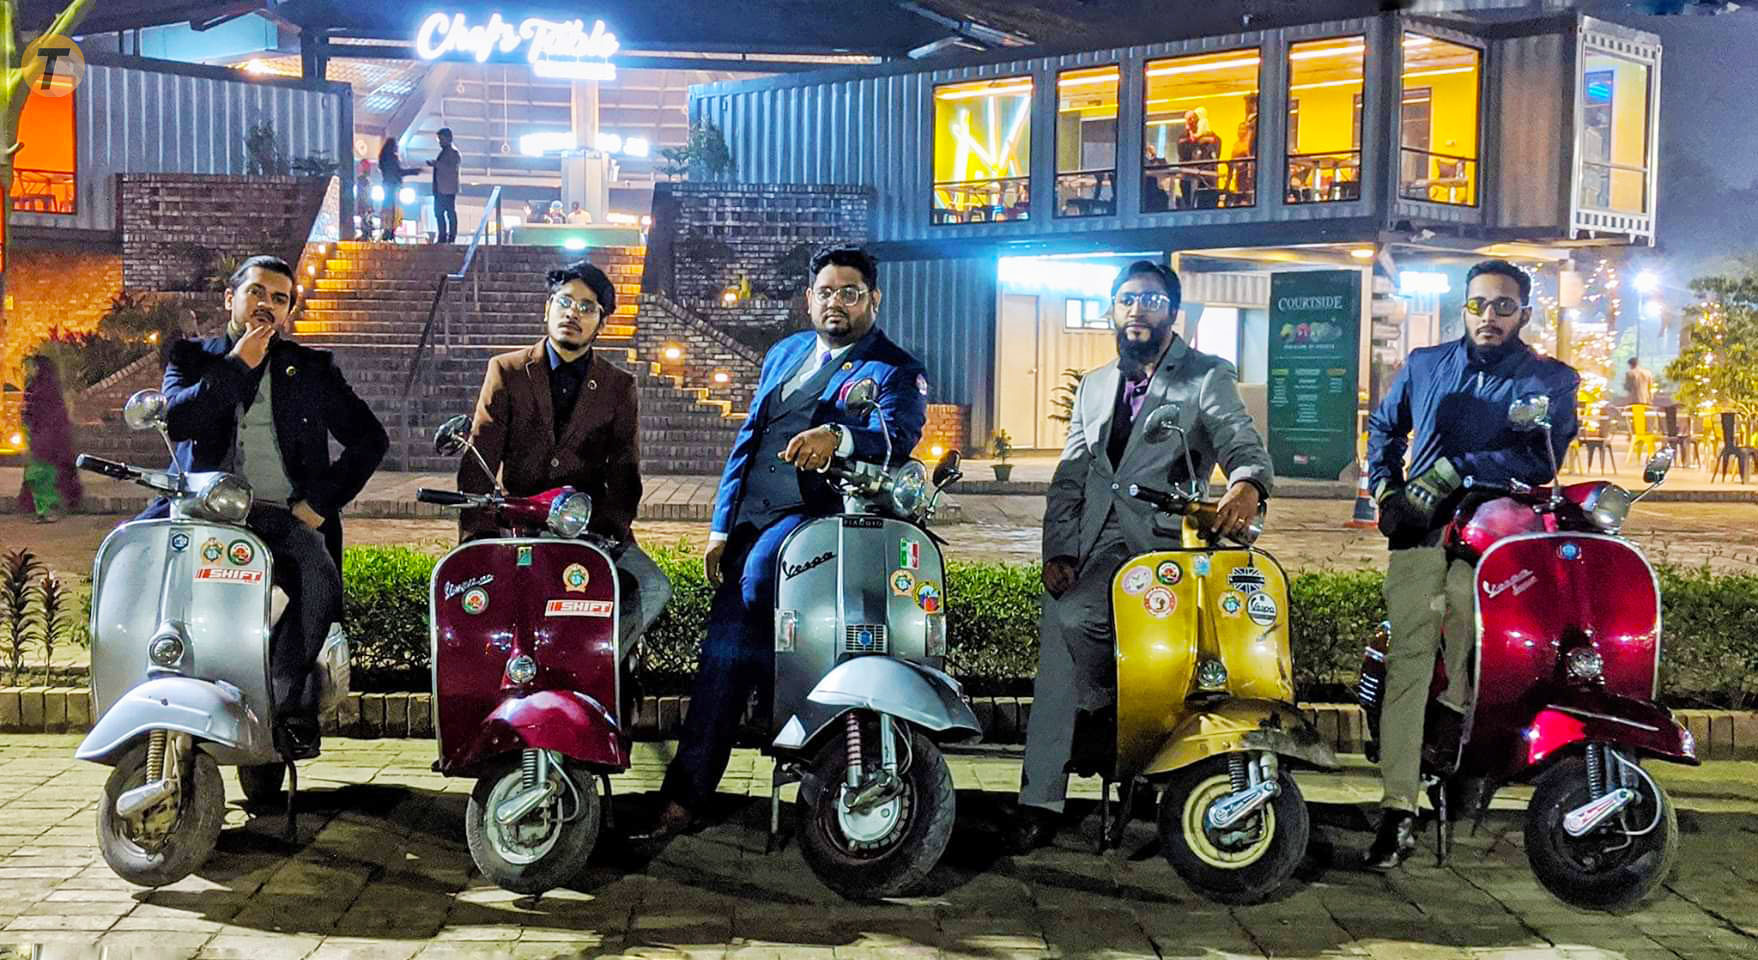scooter: (1356, 393, 1694, 915), (72, 385, 355, 890), (1105, 401, 1339, 908), (411, 413, 635, 895), (763, 447, 986, 904)
